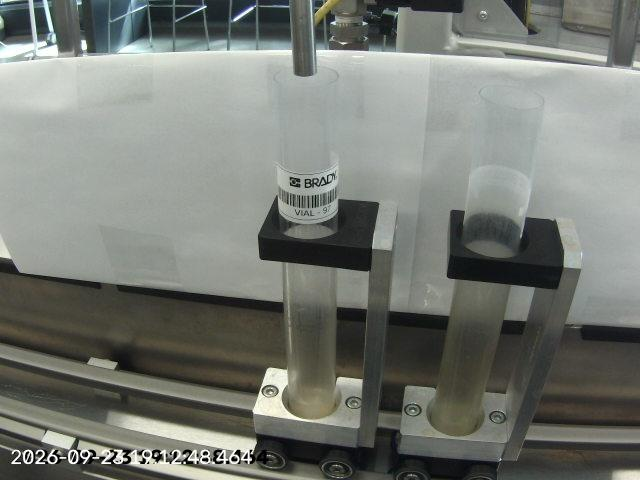vial: (427, 84, 545, 433), (272, 64, 341, 420)
